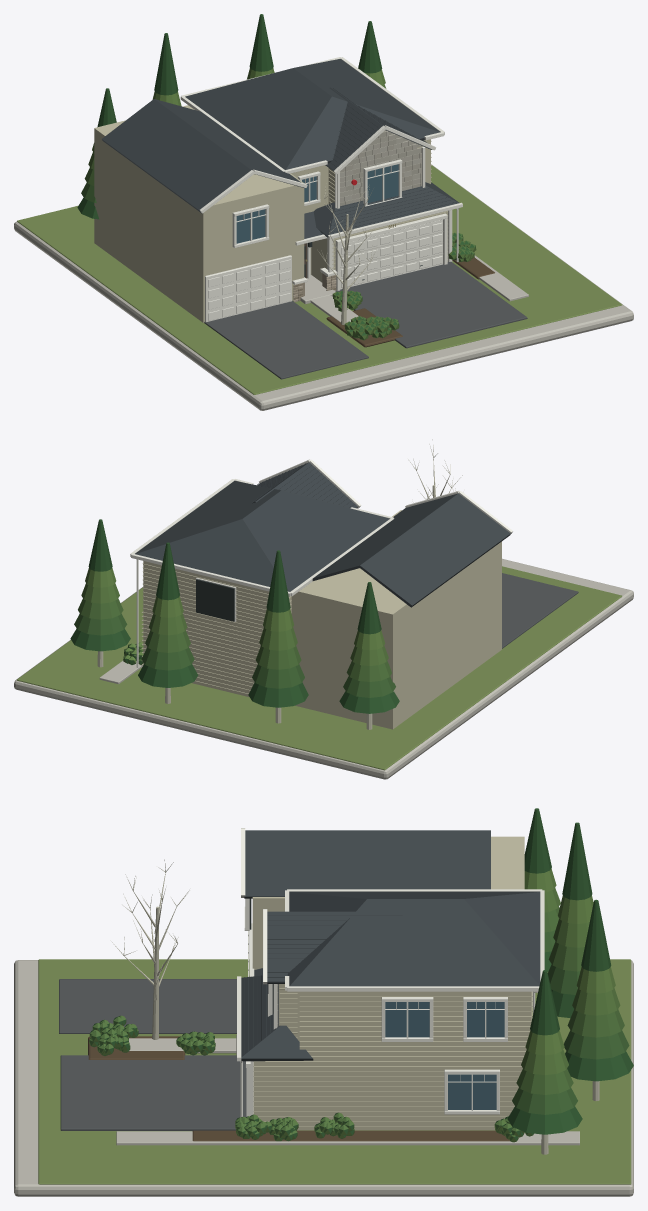
File: house.glb
The picture shows the model from 3 angles, top to bottom: view 1: azimuth 30°, elevation 25°; view 2: azimuth 150°, elevation 25°; view 3: azimuth 270°, elevation 25°; orthographic projection. The views are drawn at different scales.
Parts seen in each view (by area): view 1: Landscape, Context, Roofs, Windows and doors, Trim and masonry, Architecture; view 2: Landscape, Context, Roofs, Architecture, Trim and masonry, Windows and doors; view 3: Landscape, Roofs, Architecture, Context, Windows and doors, Trim and masonry.
Boxes of the visible parts, left/top/right/bottom form: Landscape: left=14, top=14, right=633, bottom=410; Context: left=94, top=99, right=307, bottom=322; Roofs: left=185, top=59, right=459, bottom=237; Windows and doors: left=298, top=159, right=447, bottom=290; Trim and masonry: left=180, top=57, right=462, bottom=304; Architecture: left=291, top=130, right=447, bottom=282; Landscape: left=14, top=439, right=633, bottom=779; Context: left=291, top=490, right=512, bottom=729; Roofs: left=135, top=462, right=389, bottom=591; Architecture: left=141, top=561, right=291, bottom=697; Trim and masonry: left=130, top=459, right=394, bottom=667; Windows and doors: left=196, top=577, right=236, bottom=621; Landscape: left=14, top=808, right=633, bottom=1196; Roofs: left=241, top=891, right=540, bottom=1061; Architecture: left=253, top=984, right=532, bottom=1130; Context: left=241, top=828, right=524, bottom=976; Windows and doors: left=245, top=984, right=532, bottom=1116; Trim and masonry: left=236, top=889, right=544, bottom=1117.
Bounding box in the file's own units: 20 × 9.29 × 23.
